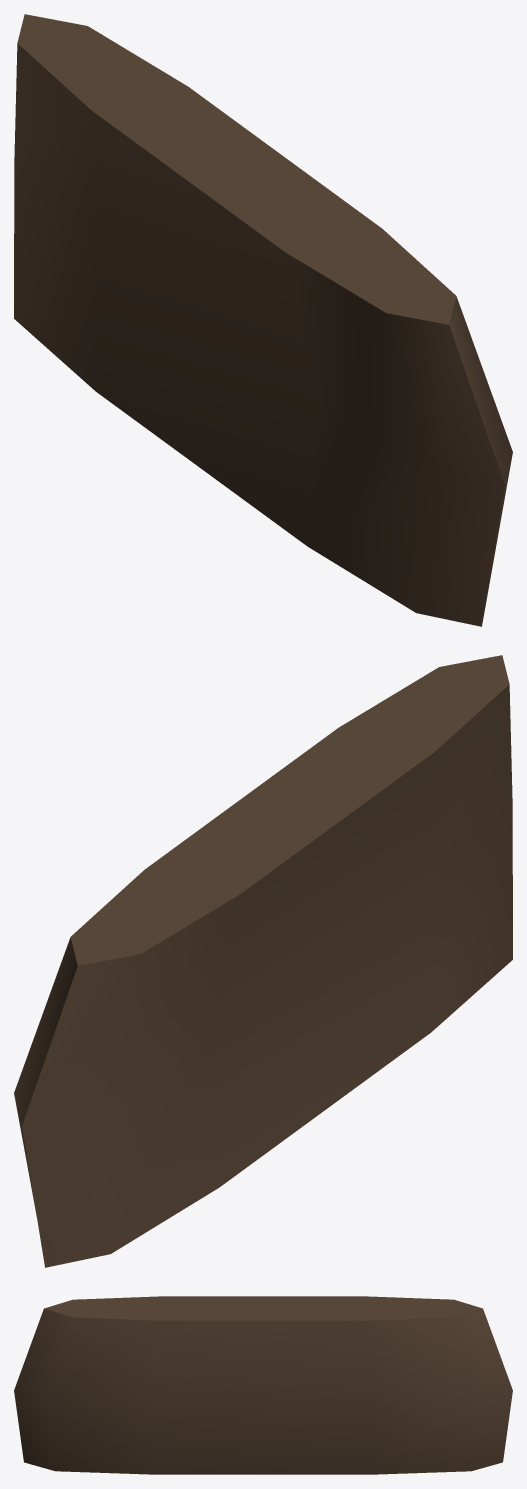
The model's file is backrest_lod1.glb.
3 renders of one model, top to bottom at view 1: azimuth 30°, elevation 25°; view 2: azimuth 150°, elevation 25°; view 3: azimuth 270°, elevation 25°, orthographic. The views are drawn at different scales.
Parts seen in each view (by area): view 1: backrest_lod1; view 2: backrest_lod1; view 3: backrest_lod1.
Part boxes in pixels (box(x1,y1,x2,y2)): backrest_lod1: box(14, 14, 512, 626); backrest_lod1: box(14, 655, 512, 1267); backrest_lod1: box(14, 1296, 512, 1474).
Bounding box in the file's own units: 0.0389 × 0.0832 × 0.25.
